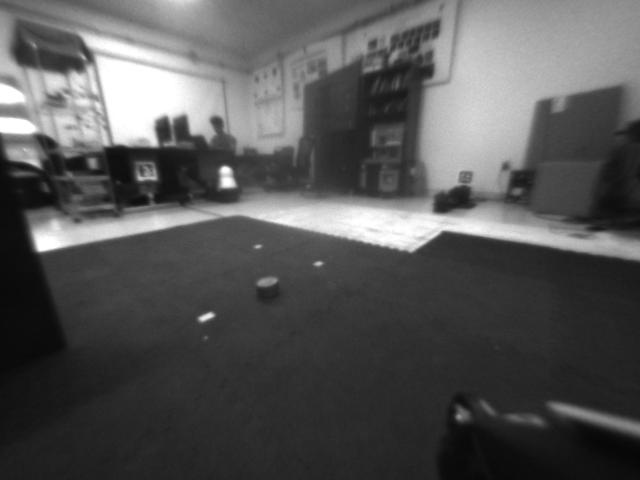dogtoy: (244, 270, 289, 303)
